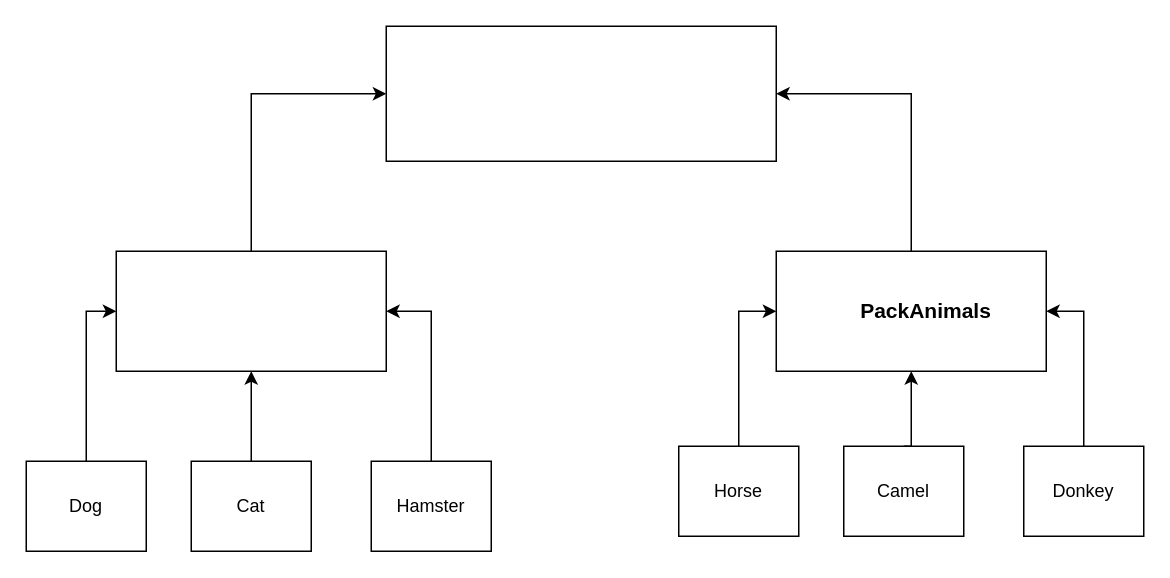
The diagram is 1170 pixels wide and 578 high, and some of its shapes have lost their labels. The shapes that lost their labels are listed below. From the top down, each one's box as (x1, y1, x2, y2) in pixels, then its label:
(385, 25, 776, 161): Animals
(115, 250, 386, 371): HomePets
